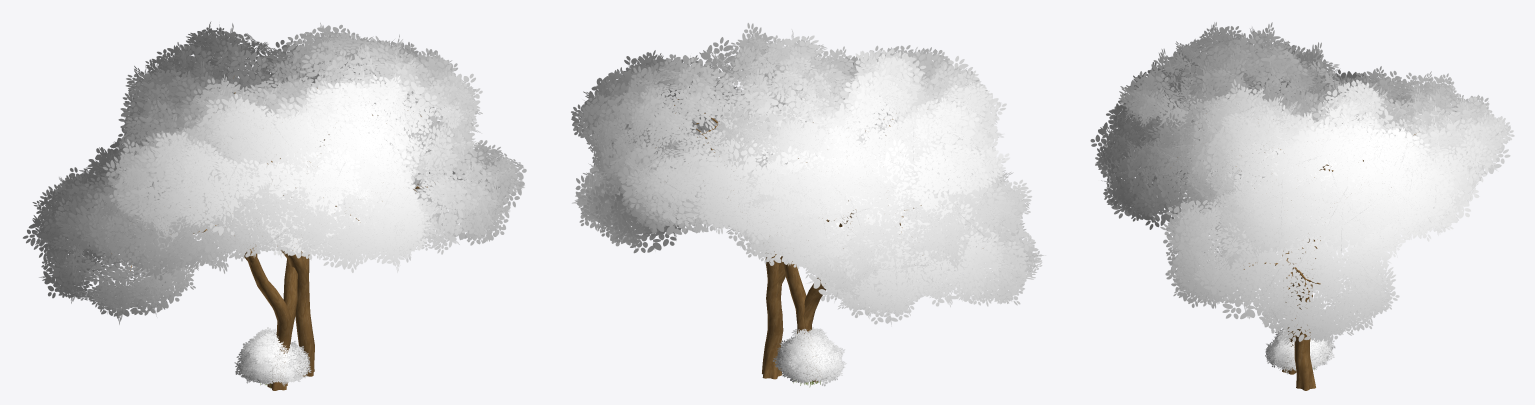
The model's file is valley-nature.glb.
3 renders of one model, left to right at view 1: azimuth 30°, elevation 25°; view 2: azimuth 150°, elevation 25°; view 3: azimuth 270°, elevation 25°, orthographic. The views are drawn at different scales.
Parts seen in each view (by area): view 1: F1_Tree2_leaves, F1_Tree1_leaves, F1_Tree1_trunk, F1_BushLow_mesh, F1_Tree2_trunk, F1_BushMid_mesh; view 2: F1_Tree2_leaves, F1_Tree1_leaves, F1_Tree2_trunk, F1_BushLow_mesh, F1_BushMid_mesh, F1_Tree1_trunk; view 3: F1_Tree2_leaves, F1_Tree1_leaves, F1_BushLow_mesh, F1_Tree2_trunk.
Part boxes in pixels (<box>): F1_Tree2_leaves: <box>52,22,482,285</box>; F1_Tree1_leaves: <box>23,60,526,324</box>; F1_Tree1_trunk: <box>111,182,434,390</box>; F1_BushLow_mesh: <box>234,341,311,386</box>; F1_Tree2_trunk: <box>233,76,421,376</box>; F1_BushMid_mesh: <box>240,327,296,383</box>; F1_Tree2_leaves: <box>571,23,1032,300</box>; F1_Tree1_leaves: <box>572,45,1045,324</box>; F1_Tree2_trunk: <box>674,99,921,379</box>; F1_BushLow_mesh: <box>772,336,846,386</box>; F1_BushMid_mesh: <box>781,327,837,383</box>; F1_Tree1_trunk: <box>781,119,983,382</box>; F1_Tree2_leaves: <box>1090,33,1514,255</box>; F1_Tree1_leaves: <box>1119,22,1478,344</box>; F1_BushLow_mesh: <box>1265,329,1335,374</box>; F1_Tree2_trunk: <box>1236,134,1415,390</box>.
Size of the model in its own units: 11.71 by 7.98 by 10.07.
Materials: 3 (3 with a texture image).
